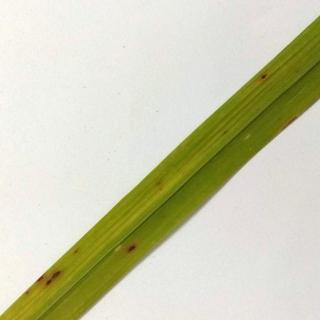Blast: (105, 233, 156, 261), (38, 263, 71, 294), (252, 64, 278, 89)
